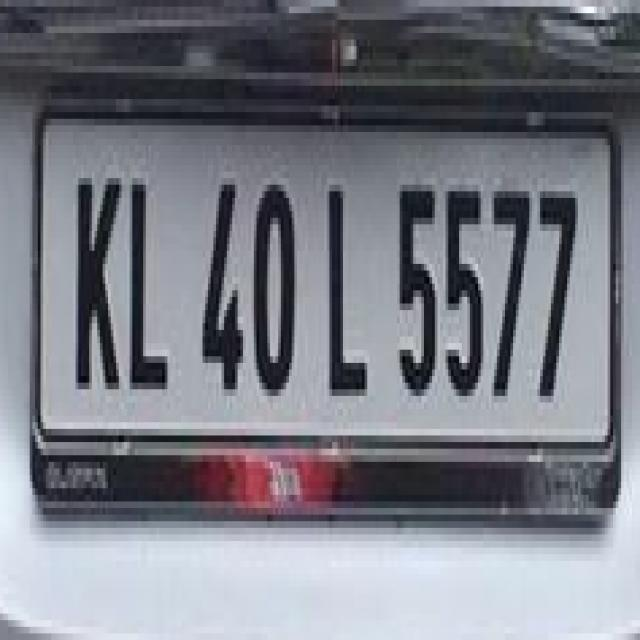0: (250, 171, 304, 405)
4: (202, 168, 246, 408)
5: (391, 162, 442, 402), (446, 165, 488, 406)
7: (538, 181, 582, 414), (491, 175, 533, 408)
K: (72, 166, 122, 398)
L: (318, 174, 378, 413), (128, 165, 178, 410)
